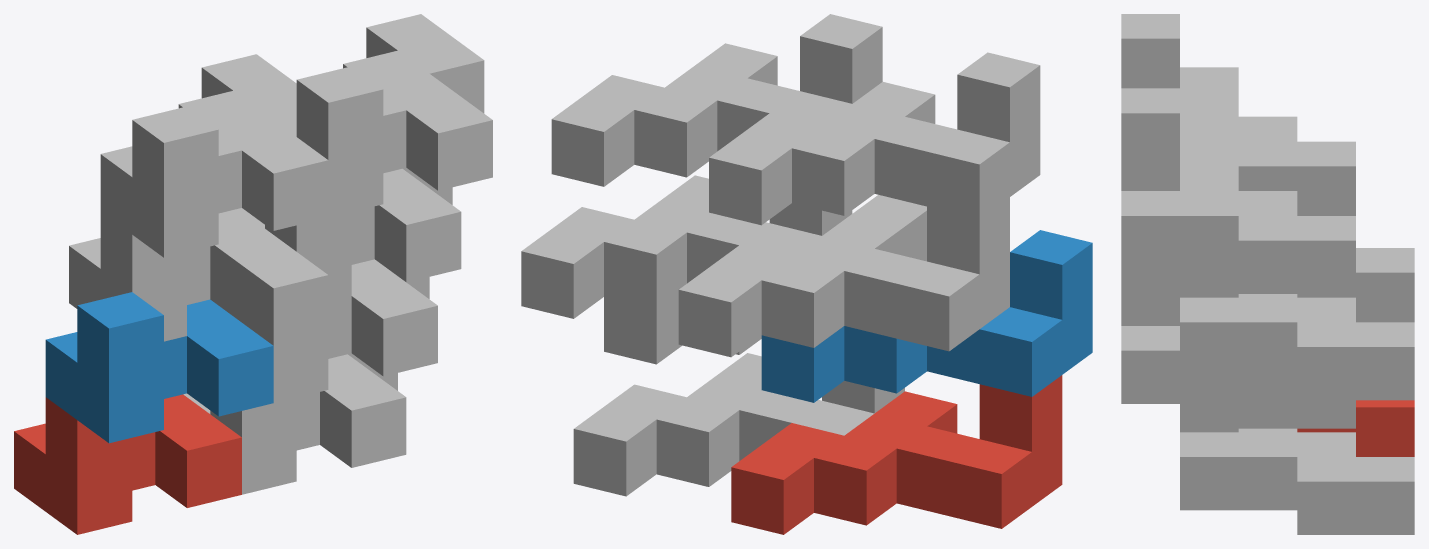
The model's file is tiling.obj.
3 renders of one model, left to right at view 1: azimuth 30°, elevation 25°; view 2: azimuth 150°, elevation 25°; view 3: azimuth 270°, elevation 25°, orthographic. The views are drawn at different scales.
Parts seen in each view (by area): view 1: copy_1_domain_4, copy_1_domain_8, copy_1_domain_2, copy_1_domain_1, copy_1_domain_6, copy_1_domain_5, copy_1_domain_3, copy_1_domain_7; view 2: copy_1_domain_4, copy_1_domain_1, copy_1_domain_3, copy_1_domain_8, copy_1_domain_2, copy_1_domain_5, copy_1_domain_7, copy_1_domain_6; view 3: copy_1_domain_8, copy_1_domain_7, copy_1_domain_5, copy_1_domain_4, copy_1_domain_6, copy_1_domain_3, copy_1_domain_1.
Boxes of the visible parts, x1=… form: copy_1_domain_4: x1=100, y1=54, x2=328, y2=257; copy_1_domain_8: x1=265, y1=14, x2=492, y2=217; copy_1_domain_2: x1=45, y1=292, x2=273, y2=443; copy_1_domain_1: x1=14, y1=394, x2=241, y2=534; copy_1_domain_6: x1=242, y1=252, x2=437, y2=402; copy_1_domain_5: x1=183, y1=353, x2=406, y2=494; copy_1_domain_3: x1=69, y1=209, x2=296, y2=341; copy_1_domain_7: x1=238, y1=167, x2=461, y2=301; copy_1_domain_4: x1=709, y1=52, x2=1040, y2=225; copy_1_domain_1: x1=731, y1=375, x2=1062, y2=534; copy_1_domain_3: x1=678, y1=197, x2=1009, y2=357; copy_1_domain_8: x1=551, y1=14, x2=882, y2=186; copy_1_domain_2: x1=761, y1=230, x2=1092, y2=402; copy_1_domain_5: x1=573, y1=353, x2=904, y2=496; copy_1_domain_7: x1=521, y1=175, x2=852, y2=318; copy_1_domain_6: x1=604, y1=195, x2=926, y2=364; copy_1_domain_8: x1=1121, y1=88, x2=1355, y2=293; copy_1_domain_7: x1=1180, y1=269, x2=1414, y2=400; copy_1_domain_5: x1=1180, y1=404, x2=1414, y2=534; copy_1_domain_4: x1=1121, y1=14, x2=1355, y2=215; copy_1_domain_6: x1=1121, y1=269, x2=1355, y2=428; copy_1_domain_3: x1=1297, y1=248, x2=1414, y2=322; copy_1_domain_1: x1=1297, y1=400, x2=1414, y2=456.
Bounding box in the file's own units: 8 × 7 × 5.
